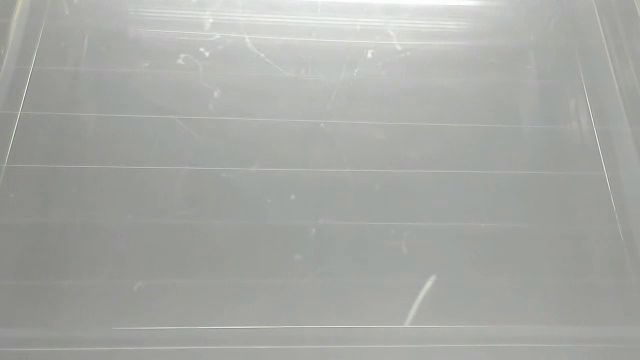alpha: (402, 273, 441, 327)
